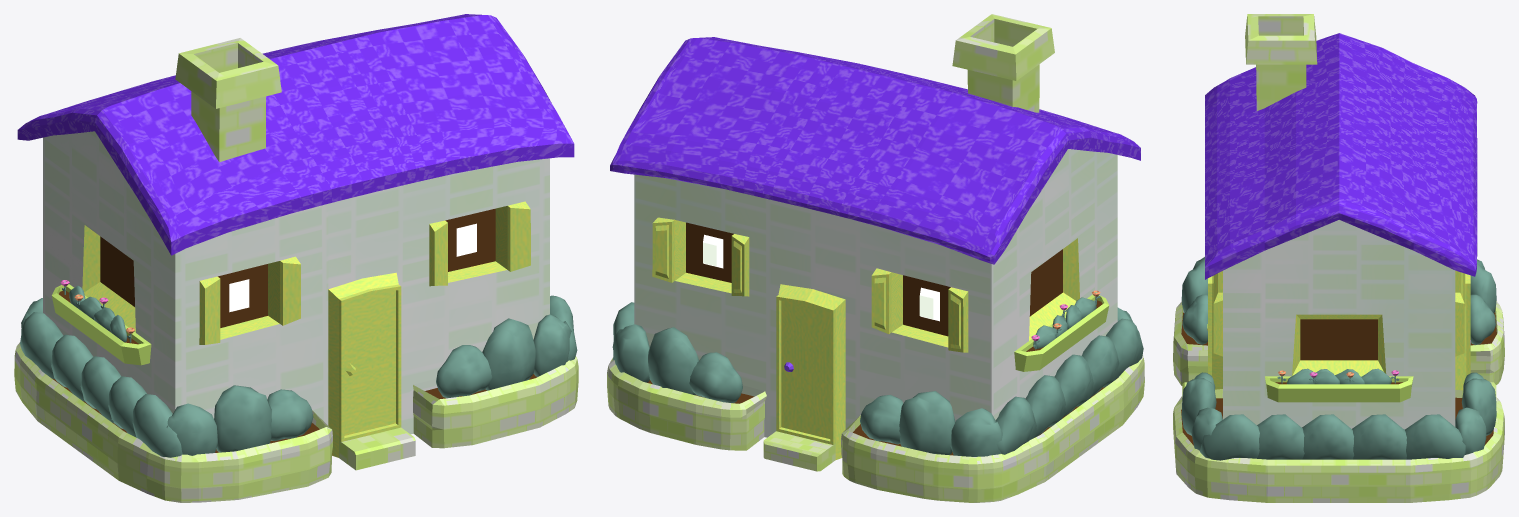
Rendered from house.RPG62 deleted materials 2.fbx.
3 views of the same model, side by side, from view 1: azimuth 30°, elevation 25°; view 2: azimuth 150°, elevation 25°; view 3: azimuth 270°, elevation 25° (orthographic). The views are drawn at different scales.
Parts seen in each view (by area): view 1: House; view 2: House; view 3: House.
Part boxes in pixels (x1,y1,x2,y2): House: (14,14,578,502); House: (607,14,1144,502); House: (1173,14,1504,502).
Bounding box in the file's own units: 384 × 324 × 286.
